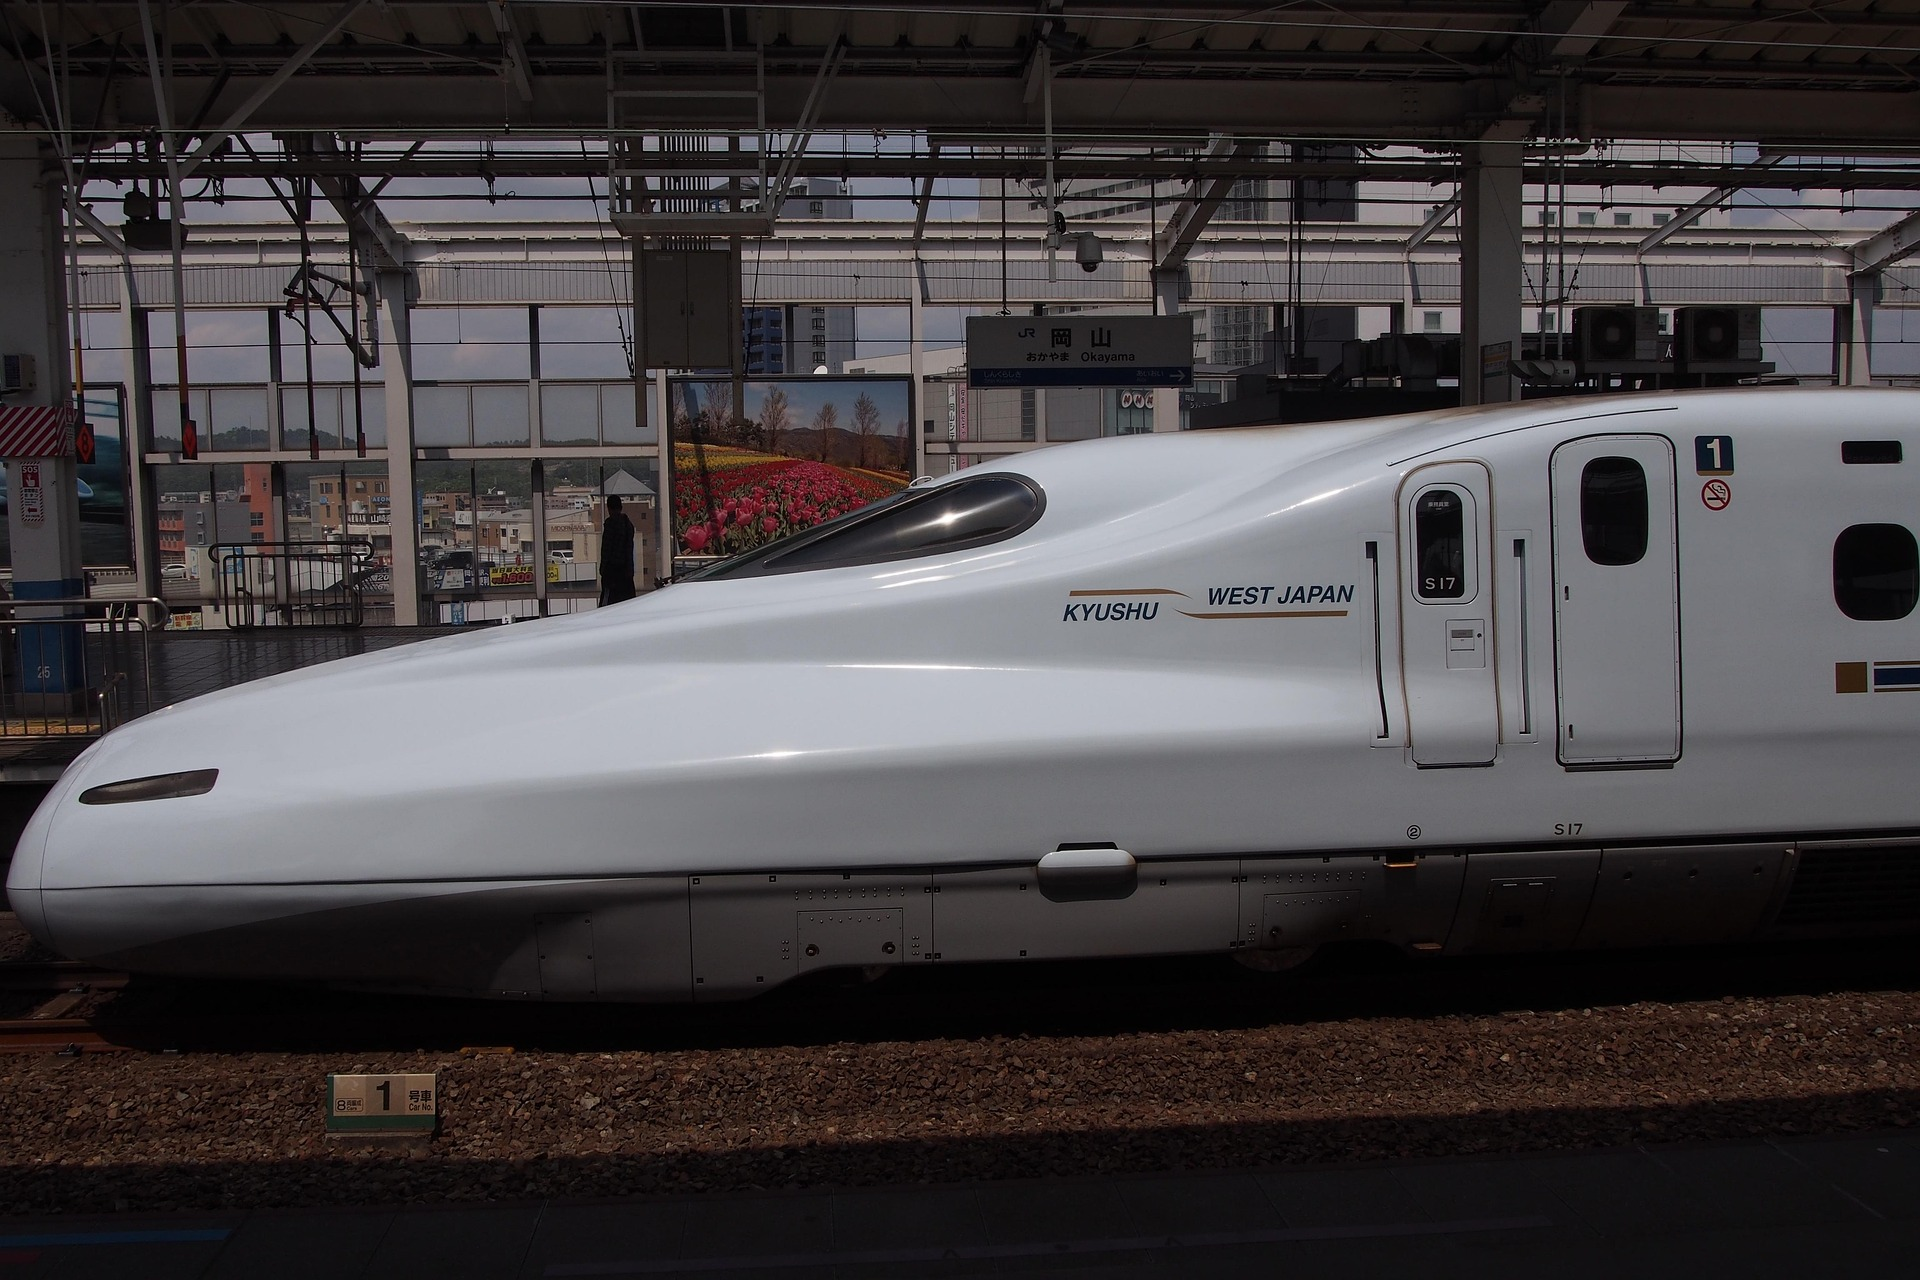train1: (10, 381, 1913, 1045)
